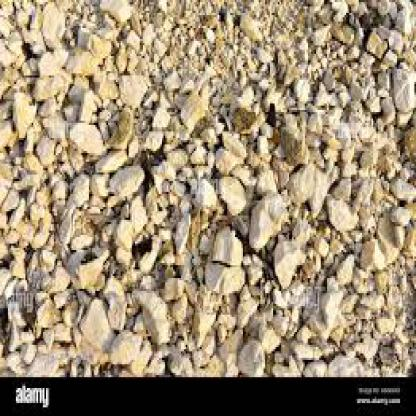Sedimentary_Chalk: (75, 155, 352, 295)
